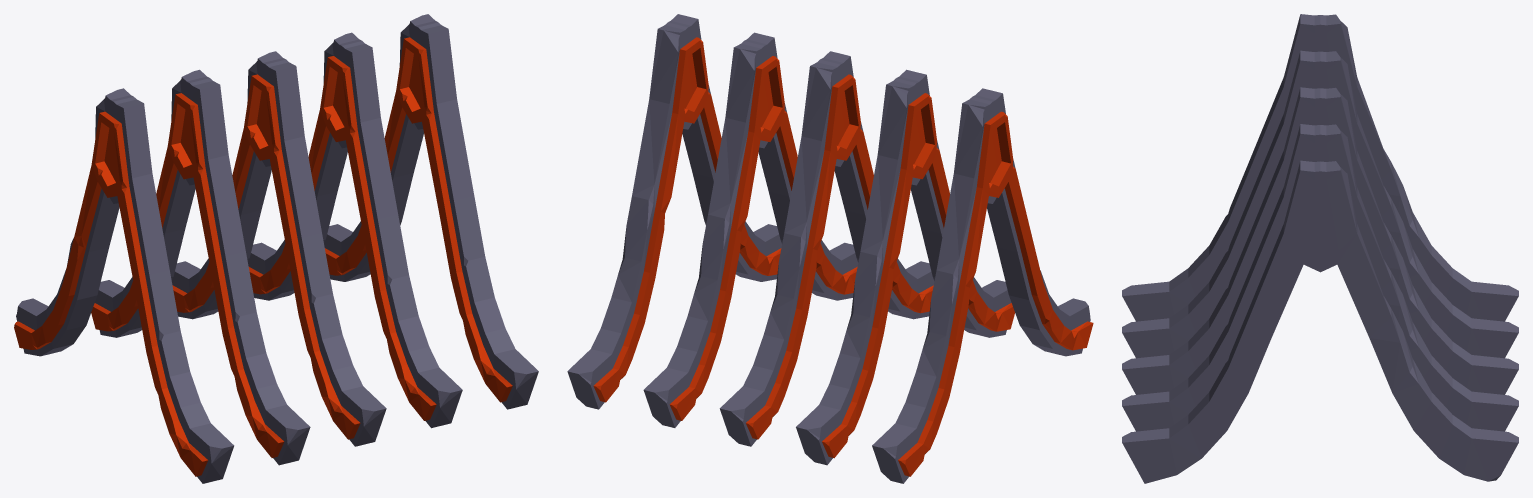
Rendered from SFI_Building_RoofAttch.fbx.
3 renders of one model, left to right at view 1: azimuth 30°, elevation 25°; view 2: azimuth 150°, elevation 25°; view 3: azimuth 270°, elevation 25°, orthographic.
Visible parts, largest first — view 1: SFI_Building_RoofAttch; view 2: SFI_Building_RoofAttch; view 3: SFI_Building_RoofAttch.
Boxes of the visible parts, <box> form: SFI_Building_RoofAttch: <box>14,14,538,483</box>; SFI_Building_RoofAttch: <box>567,14,1093,483</box>; SFI_Building_RoofAttch: <box>1122,14,1518,483</box>.
Size of the model in its own units: 948 by 863 by 989.
